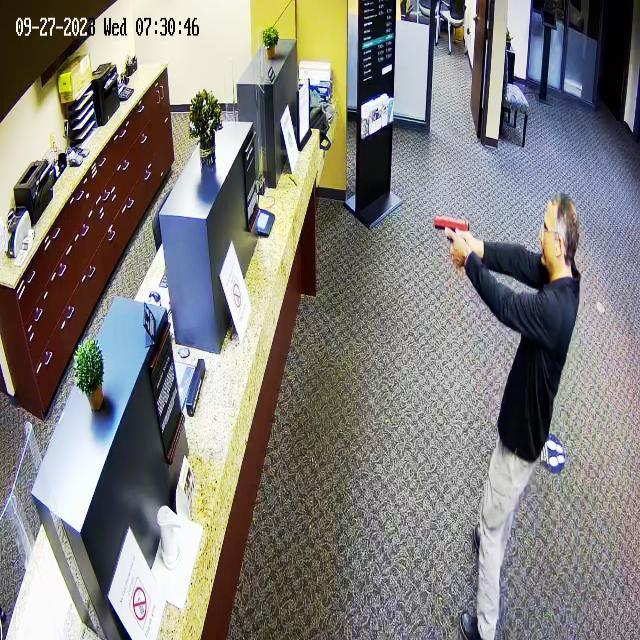Gun: (425, 204, 477, 257)
